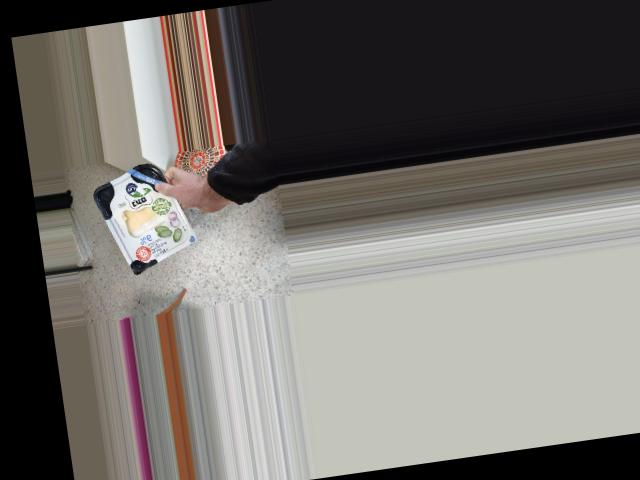cheese: (109, 171, 189, 266)
